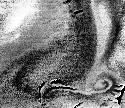CE: (84, 72, 112, 95)
